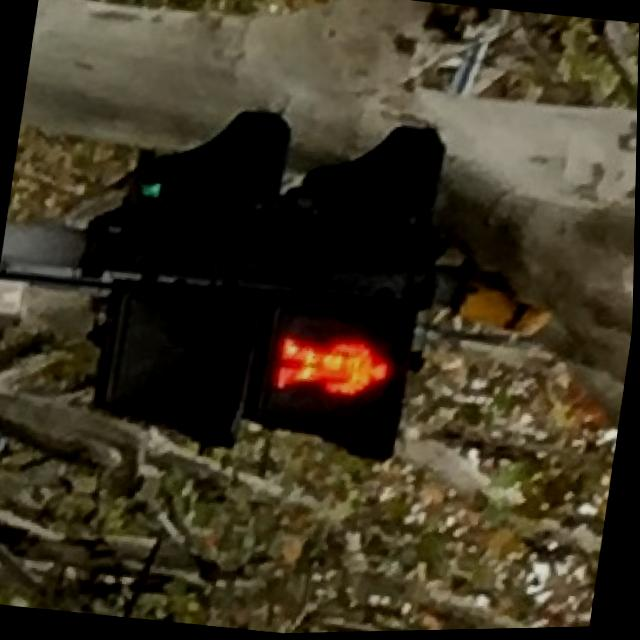red_light: (262, 310, 410, 435)
